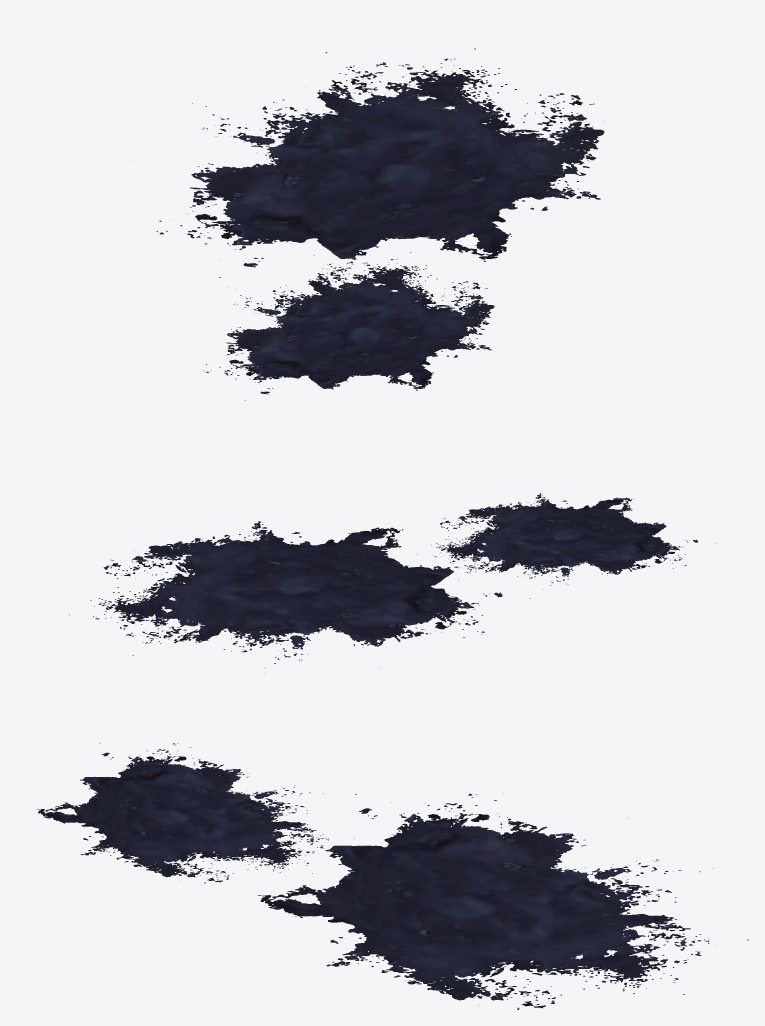
File: palace_floor_decal_02.fbx
3 renders of one model, top to bottom at view 1: azimuth 30°, elevation 25°; view 2: azimuth 150°, elevation 25°; view 3: azimuth 270°, elevation 25°, orthographic. The views are drawn at different scales.
Parts seen in each view (by area): view 1: palace_tileset/palace_decalss01_shadow_mat; view 2: palace_tileset/palace_decalss01_shadow_mat; view 3: palace_tileset/palace_decalss01_shadow_mat.
Boxes of the visible parts, x1,y1,x2,y2 form: palace_tileset/palace_decalss01_shadow_mat: [130, 48, 604, 400]; palace_tileset/palace_decalss01_shadow_mat: [69, 493, 715, 668]; palace_tileset/palace_decalss01_shadow_mat: [36, 743, 748, 1009].
Bounding box in the file's own units: 8.31 × 0.001 × 9.65.
